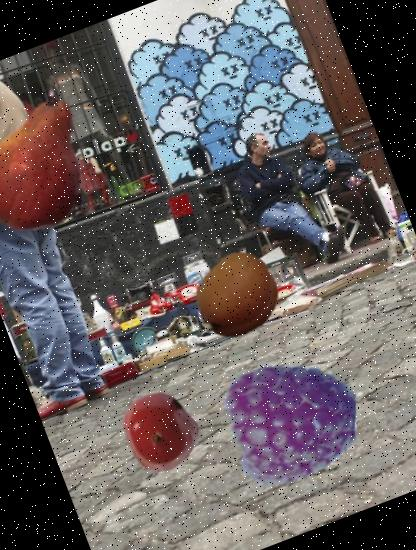Apricot: (178, 240, 294, 354)
Pear: (0, 74, 131, 257)
Raspberry: (206, 338, 376, 509)
Tomato: (107, 380, 209, 482)
